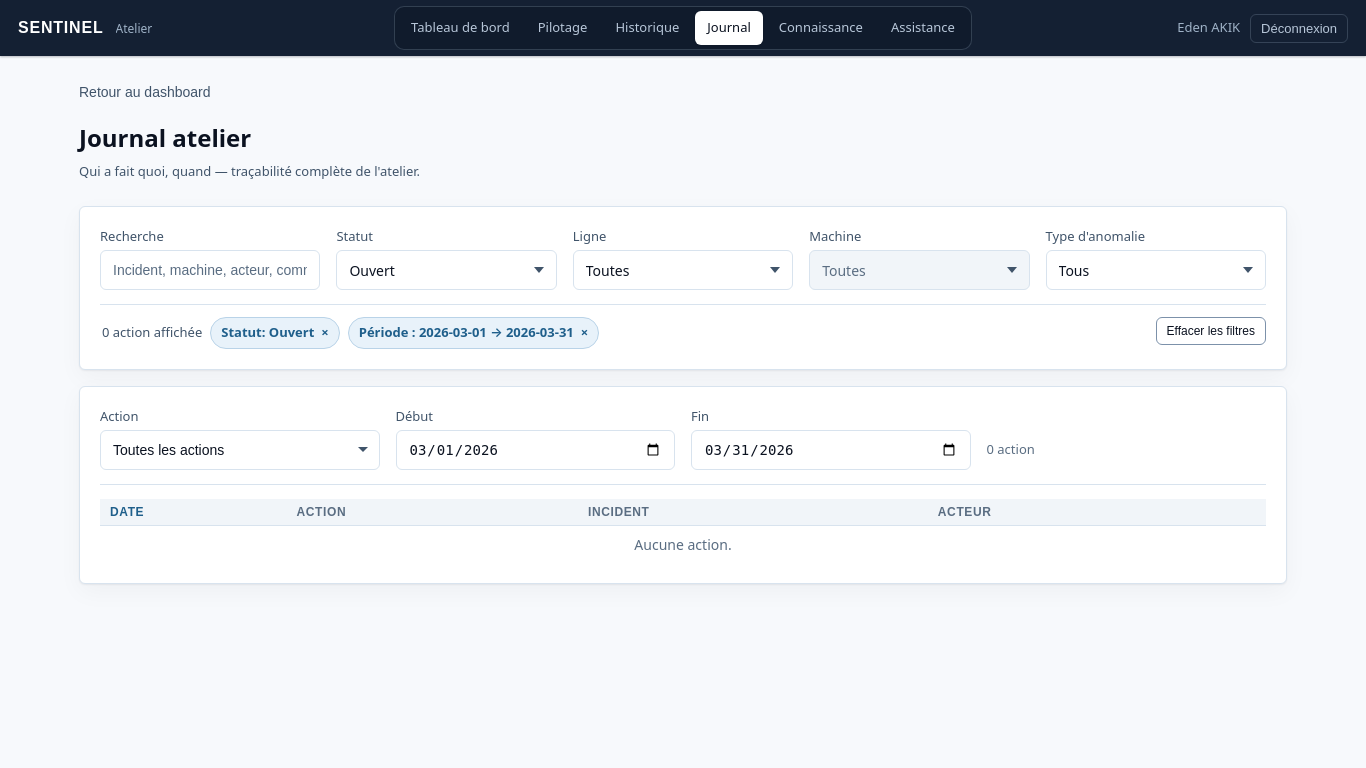
Scenario: WorkshopJournalPage — suppression de la période › le clic sur la vraie puce retire start et end de l’URL comme de l’interface
The image size is (1366, 768).
expect the date field labelled "Début" holds "2026-03-01": met, box top-left (396, 430), bottom-right (675, 470)
expect the date field labelled "Fin" holds "2026-03-31": met, box top-left (691, 430), bottom-right (970, 470)
Click the button named "Retirer le filtre Période : 2026-03-01 → 2026-03-31".
click(474, 333)  # box top-left (348, 317), bottom-right (599, 348)
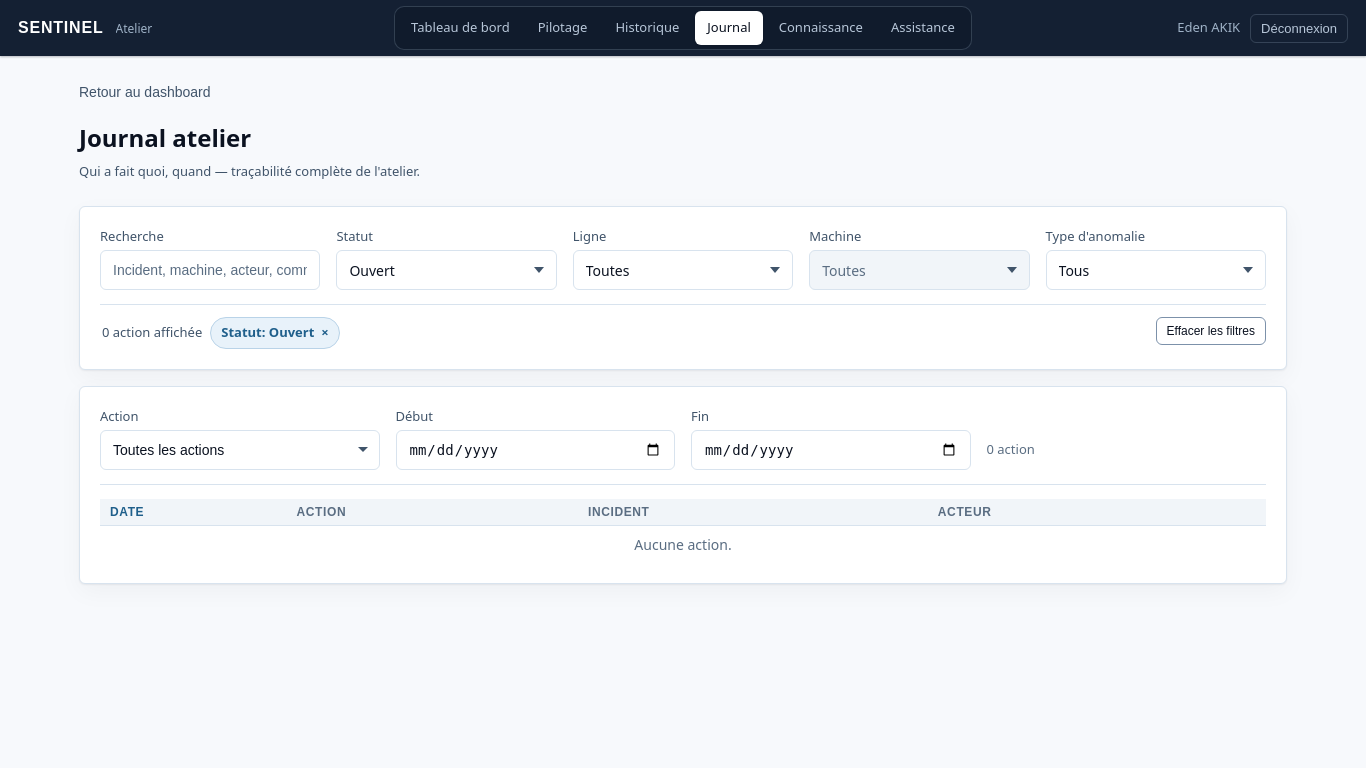
expect the date field labelled "Début" is empty: met, box top-left (396, 430), bottom-right (675, 470)
expect the date field labelled "Fin" is empty: met, box top-left (691, 430), bottom-right (970, 470)
